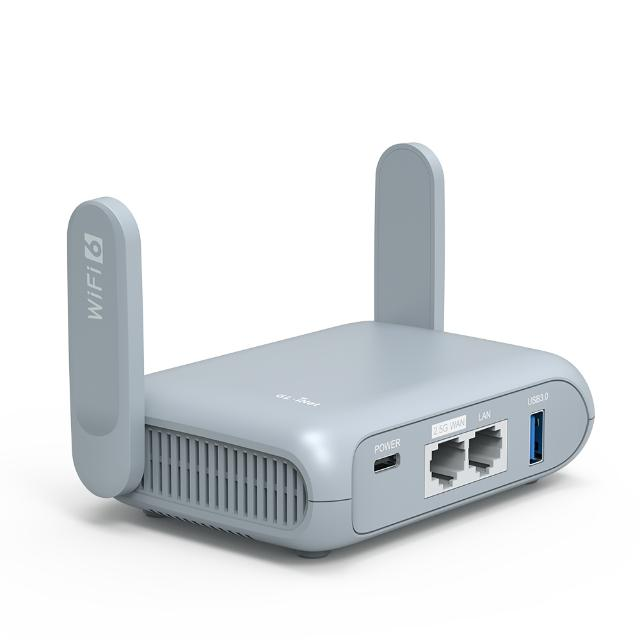Router: (65, 143, 598, 557)
